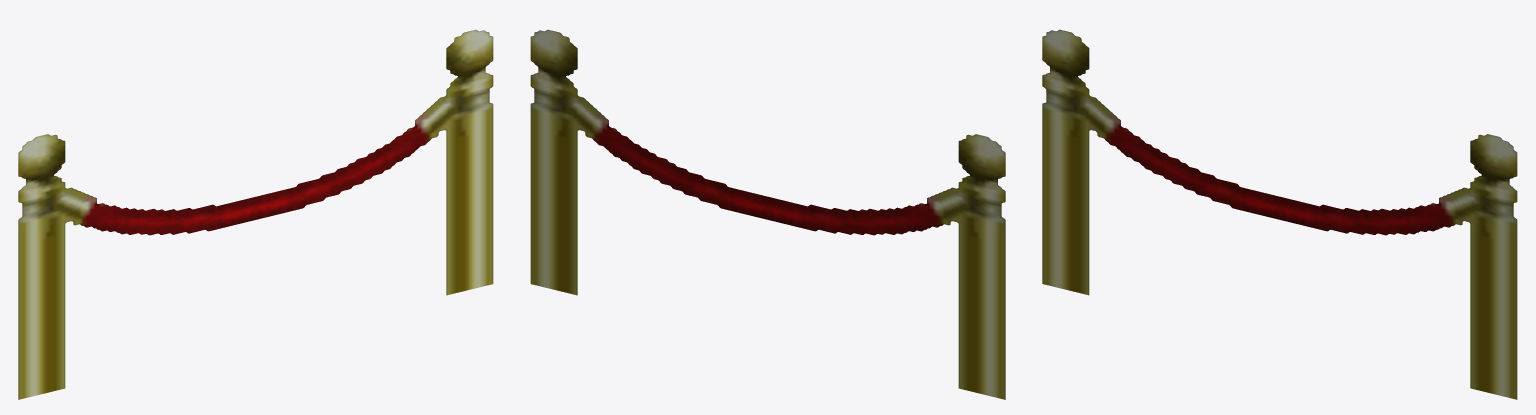
The model's file is mc_hazad.glb.
The picture shows the model from 3 angles, left to right: view 1: azimuth 30°, elevation 25°; view 2: azimuth 150°, elevation 25°; view 3: azimuth 330°, elevation 25°; orthographic projection.
Parts seen in each view (by area): view 1: mc_hazad; view 2: mc_hazad; view 3: mc_hazad.
Part boxes in pixels (<box>): mc_hazad: <box>18,29,493,399</box>; mc_hazad: <box>530,29,1005,399</box>; mc_hazad: <box>1042,29,1517,399</box>.
Size of the model in its own units: 40 by 21.25 by 0.
1 material, 1 textured.
